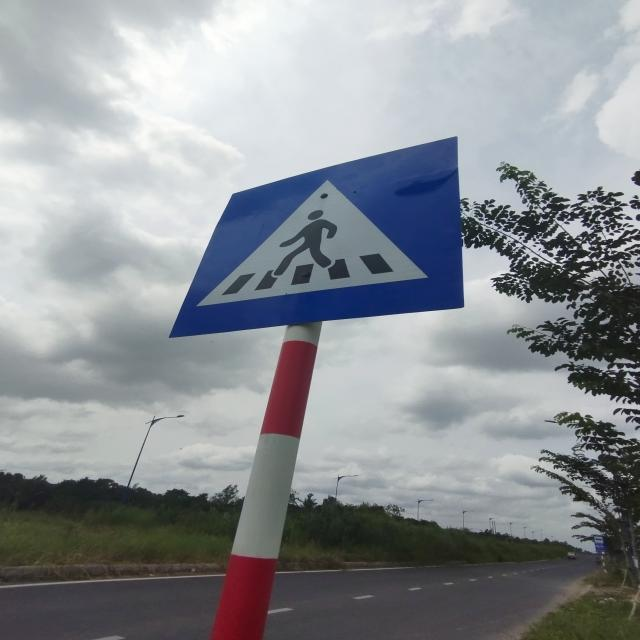Giao_Nhau_Duong_Uu_Tien: (170, 138, 463, 336)
